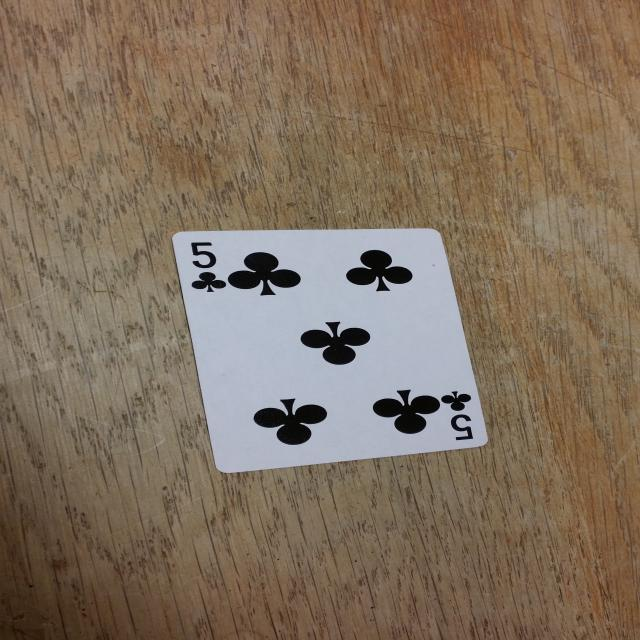5c: (175, 234, 234, 300), (432, 388, 486, 447)
